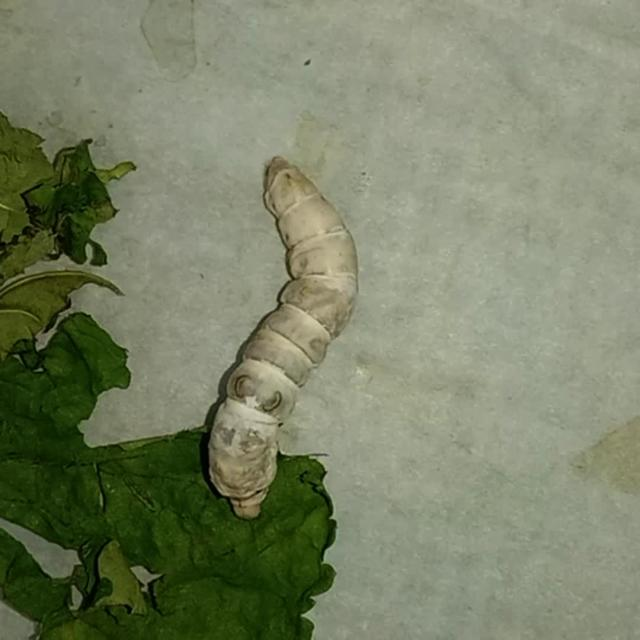Grasserie: (151, 123, 412, 558)
